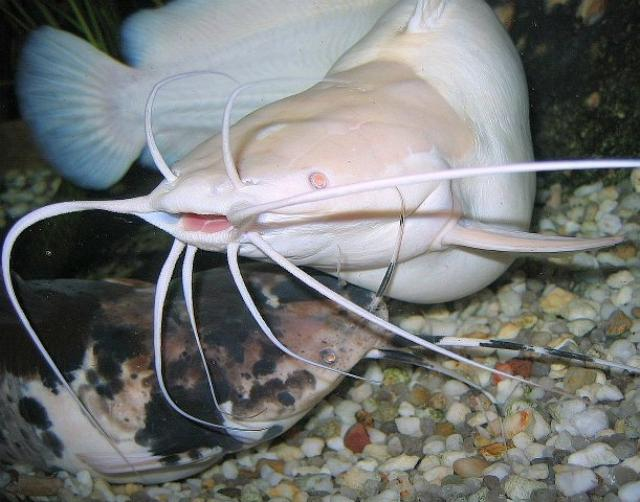Mulut: (124, 186, 272, 264)
Sirip Dada: (430, 195, 640, 289)
Sirip Ekor: (6, 15, 182, 202)
